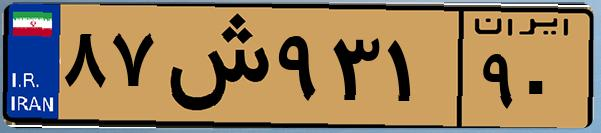0: (525, 38, 570, 115)
1: (385, 28, 445, 110)
3: (330, 28, 385, 110)
7: (110, 28, 158, 98)
8: (57, 26, 110, 100)
9: (270, 28, 330, 110), (475, 38, 525, 113)
ش: (158, 12, 270, 120)
